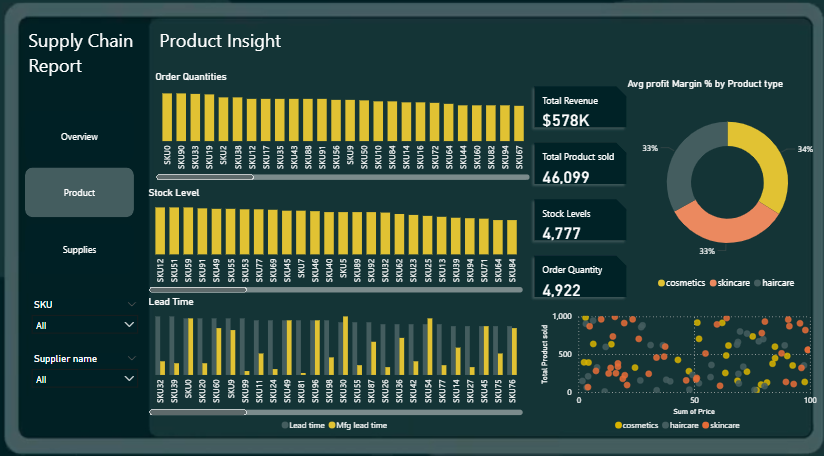

Layout of this report page (visuals, bound fields, positions):
{"tool":"powerbi","page":{"name":"Product","canvas":[1280,720],"ordinal":1},"visuals":[{"type":"columnChart","title":"Stock Level","fields":{"Category":["supply_chain_data.SKU"],"Y":["_measures.Stock Levels"]},"box":[256,304,560,160],"z":0},{"type":"columnChart","title":"Order Quantities ","fields":{"Category":["supply_chain_data.SKU"],"Y":["_measures.Order Quantity"]},"box":[266,134,560,165],"z":1000},{"type":"clusteredColumnChart","title":"Lead Time","fields":{"Category":["supply_chain_data.SKU"],"Y":["Sum(supply_chain_data.Lead time)","Sum(supply_chain_data.Manufacturing lead time)"]},"box":[256,464,560,208],"z":2000},{"type":"cardVisual","fields":{"Data":["_measures.Total Revenue","_measures.Total Product sold","_measures.Stock Levels","_measures.Order Quantity"]},"box":[816,144,160,336],"z":3000},{"type":"donutChart","fields":{"Category":["supply_chain_data.Product type"],"Y":["_measures.Avg profit Margin %"]},"box":[960,144,304,320],"z":4000},{"type":"scatterChart","fields":{"X":["Sum(supply_chain_data.Price)"],"Y":["_measures.Total Product sold"],"Category":["supply_chain_data.SKU"],"Series":["supply_chain_data.Product type"]},"box":[832,480,416,192],"z":5000},{"type":"textbox","box":[272,64,400,48],"z":6000},{"type":"pageNavigator","box":[80,192,160,240],"z":7000},{"type":"slicer","fields":{"Values":["supply_chain_data.SKU"]},"box":[80,464,176,64],"z":8000},{"type":"slicer","fields":{"Values":["supply_chain_data.Supplier name"]},"box":[80,544,176,64],"z":9000},{"type":"textbox","box":[80,64,192,96],"z":10000}]}

Visuals, with their boxes in screenshot pixels (x1, y1, x2, y2), scaled from the page's 1280x720 canvas onto the 824x456 screenshot:
"Stock Level" columnChart: x1=165 y1=193 x2=525 y2=294
"Order Quantities " columnChart: x1=171 y1=85 x2=532 y2=189
"Lead Time" clusteredColumnChart: x1=165 y1=294 x2=525 y2=426
cardVisual - _measures.Total Revenue x _measures.Total Product sold: x1=525 y1=91 x2=628 y2=304
donutChart - supply_chain_data.Product type x _measures.Avg profit Margin %: x1=618 y1=91 x2=814 y2=294
scatterChart - Sum(supply_chain_data.Price) x _measures.Total Product sold: x1=536 y1=304 x2=803 y2=426
textbox: x1=175 y1=41 x2=433 y2=71
pageNavigator: x1=52 y1=122 x2=154 y2=274
slicer - supply_chain_data.SKU: x1=52 y1=294 x2=165 y2=334
slicer - supply_chain_data.Supplier name: x1=52 y1=345 x2=165 y2=385
textbox: x1=52 y1=41 x2=175 y2=101
